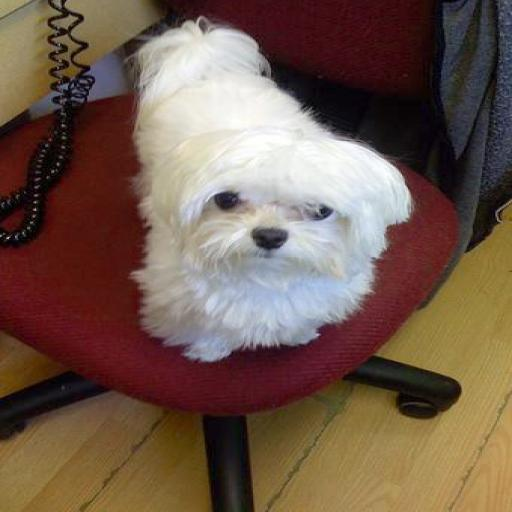dog_face: (158, 135, 368, 271)
